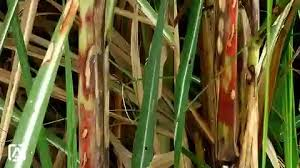Red-Rot: (204, 0, 242, 162), (74, 0, 110, 166), (38, 0, 77, 68)
